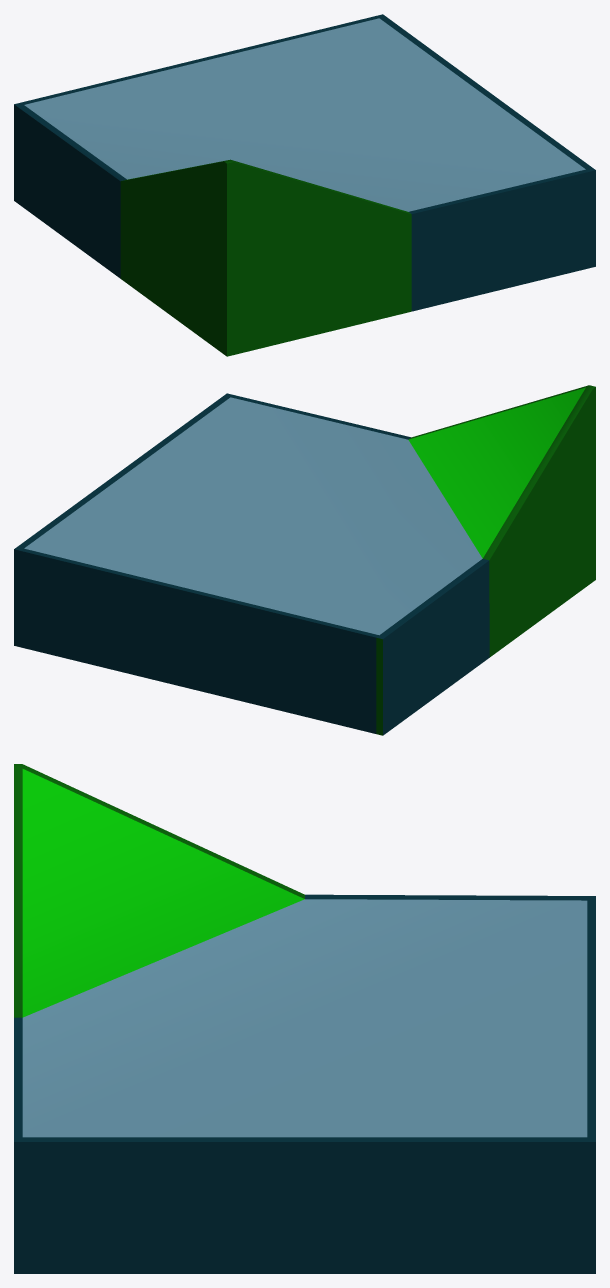
The model's file is Agua_2.fbx.
3 renders of one model, top to bottom at view 1: azimuth 30°, elevation 25°; view 2: azimuth 150°, elevation 25°; view 3: azimuth 270°, elevation 25°, orthographic. The views are drawn at different scales.
Visible parts, largest first — view 1: pCube6; view 2: pCube6; view 3: pCube6.
Boxes of the visible parts, x1,y1,x2,y2 form: pCube6: (14,14,595,356); pCube6: (14,385,595,735); pCube6: (14,764,595,1273).
Bounding box in the file's own units: 200 × 100 × 200.
